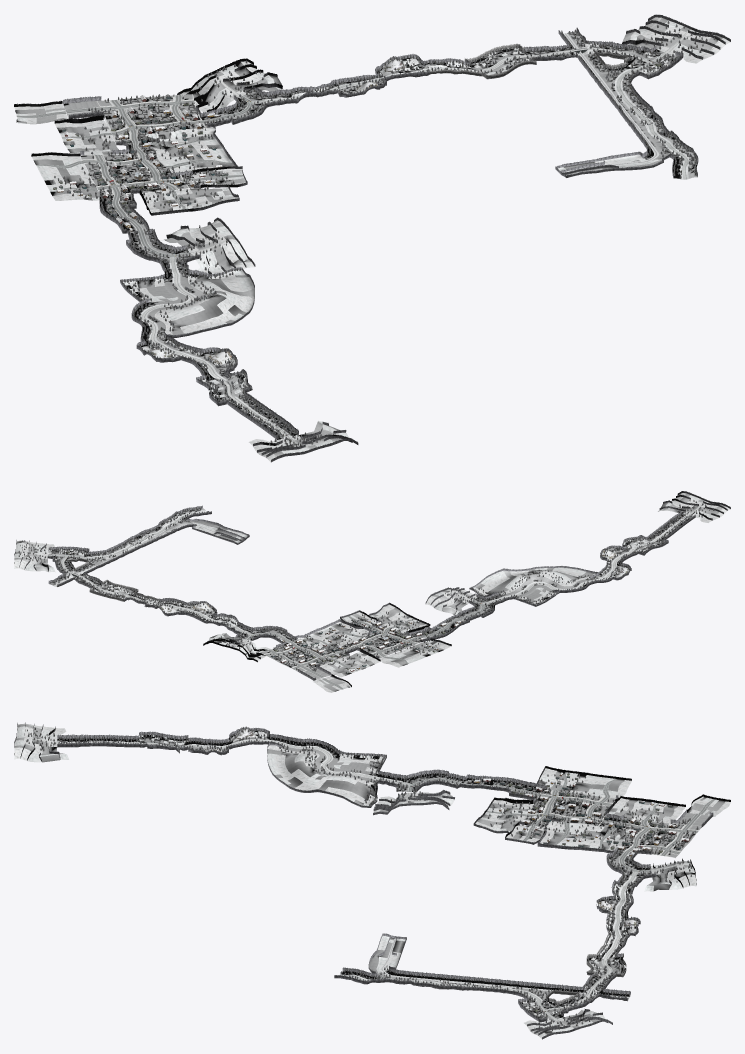
File: sweden_stage5_visual.glb
3 renders of one model, top to bottom at view 1: azimuth 30°, elevation 25°; view 2: azimuth 150°, elevation 25°; view 3: azimuth 270°, elevation 25°, orthographic. The views are drawn at different scales.
Visible parts, largest first — view 1: Track_Road_And_Terrain, Foliage_And_Vegetation, Buildings_And_Structures; view 2: Track_Road_And_Terrain, Foliage_And_Vegetation, Buildings_And_Structures; view 3: Track_Road_And_Terrain, Foliage_And_Vegetation, Buildings_And_Structures.
Boxes of the visible parts, x1=… form: Track_Road_And_Terrain: x1=14, y1=17, x2=730, y2=462; Foliage_And_Vegetation: x1=14, y1=14, x2=730, y2=462; Buildings_And_Structures: x1=53, y1=62, x2=661, y2=231; Track_Road_And_Terrain: x1=14, y1=493, x2=730, y2=692; Foliage_And_Vegetation: x1=14, y1=491, x2=730, y2=686; Buildings_And_Structures: x1=66, y1=551, x2=464, y2=673; Track_Road_And_Terrain: x1=14, y1=723, x2=730, y2=1038; Foliage_And_Vegetation: x1=14, y1=722, x2=730, y2=1039; Buildings_And_Structures: x1=468, y1=772, x2=689, y2=1011.
Size of the model in its own units: 2163 by 64.7 by 2105.
78 materials, 78 textured.
